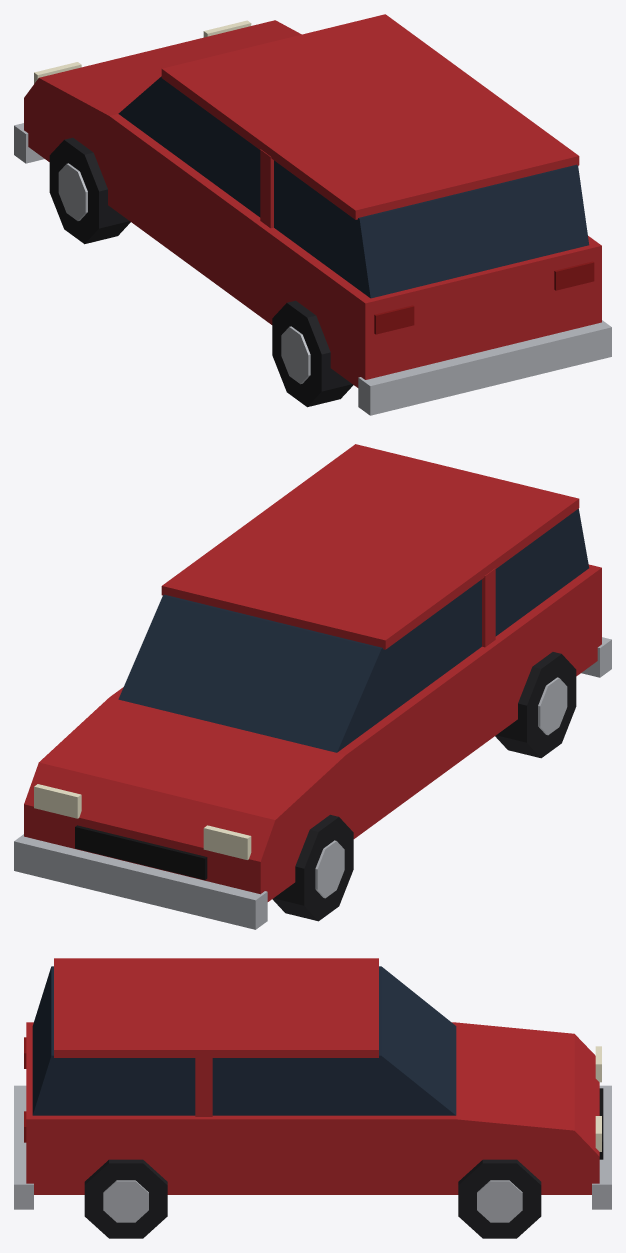
File: CarWagonRedPaint.obj
3 renders of one model, top to bottom at view 1: azimuth 30°, elevation 25°; view 2: azimuth 150°, elevation 25°; view 3: azimuth 270°, elevation 25°, orthographic. The views are drawn at different scales.
Parts seen in each view (by area): view 1: CarWagonRedPaint; view 2: CarWagonRedPaint; view 3: CarWagonRedPaint.
Boxes of the visible parts, x1,y1,x2,y2 form: CarWagonRedPaint: [14, 14, 611, 415]; CarWagonRedPaint: [14, 444, 611, 929]; CarWagonRedPaint: [14, 958, 611, 1238].
Bounding box in the file's own units: 2.01 × 1.61 × 4.8.
Materials: 1 (1 with a texture image).
